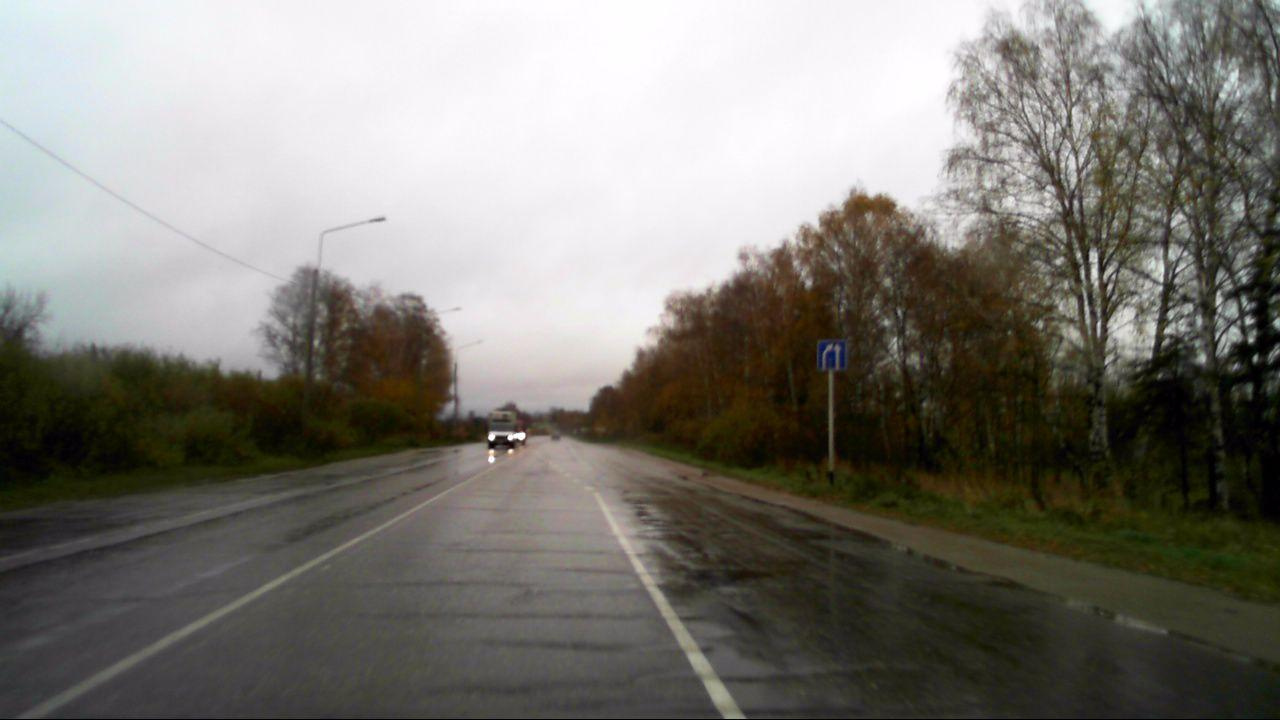5_15_6: (814, 337, 848, 373)
